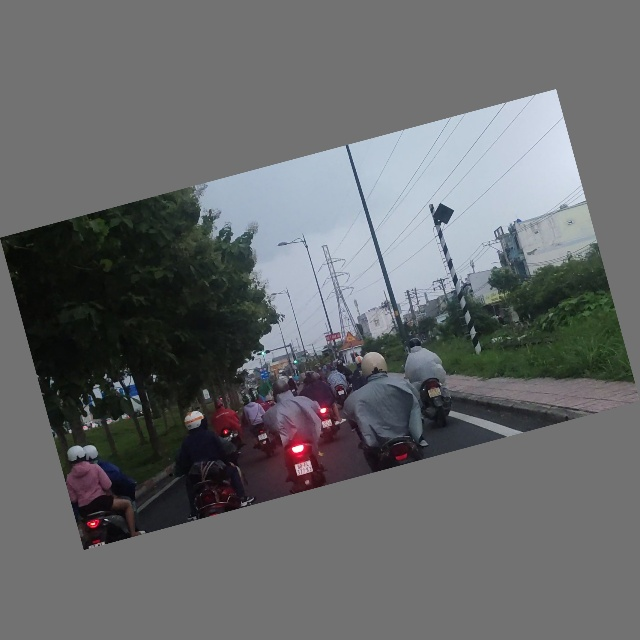W.210: (343, 330, 357, 344)
